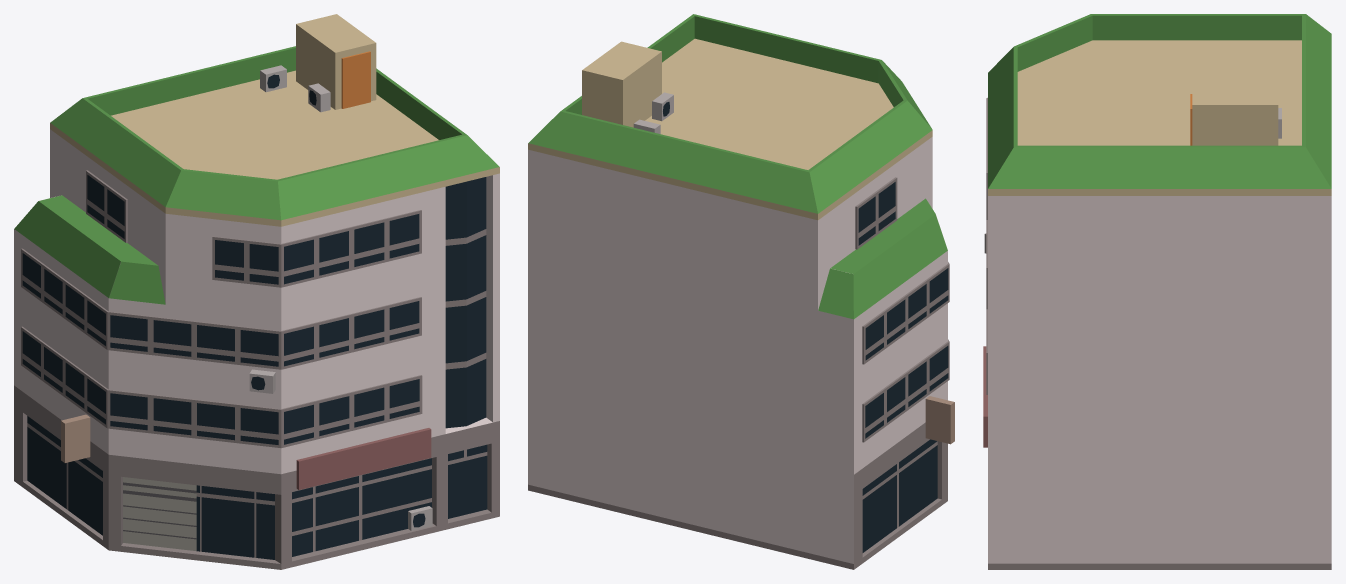
File: Building_Store02.fbx
3 views of the same model, side by side, from view 1: azimuth 30°, elevation 25°; view 2: azimuth 150°, elevation 25°; view 3: azimuth 270°, elevation 25° (orthographic). The views are drawn at different scales.
Visible parts, largest first — view 1: BuildingStore02; view 2: BuildingStore02; view 3: BuildingStore02.
Boxes of the visible parts, x1,y1,x2,y2 form: BuildingStore02: [14, 14, 499, 569]; BuildingStore02: [528, 14, 954, 569]; BuildingStore02: [983, 14, 1331, 569].
Bounding box in the file's own units: 509 × 399 × 568.
